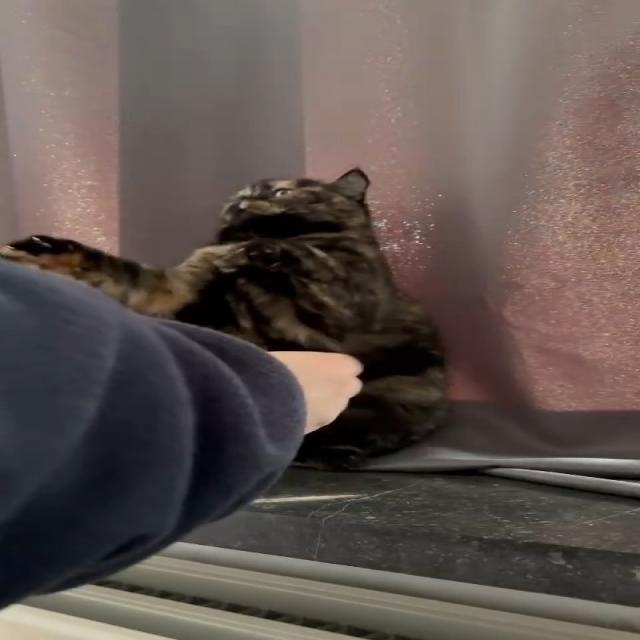authorized: (1, 166, 451, 471)
